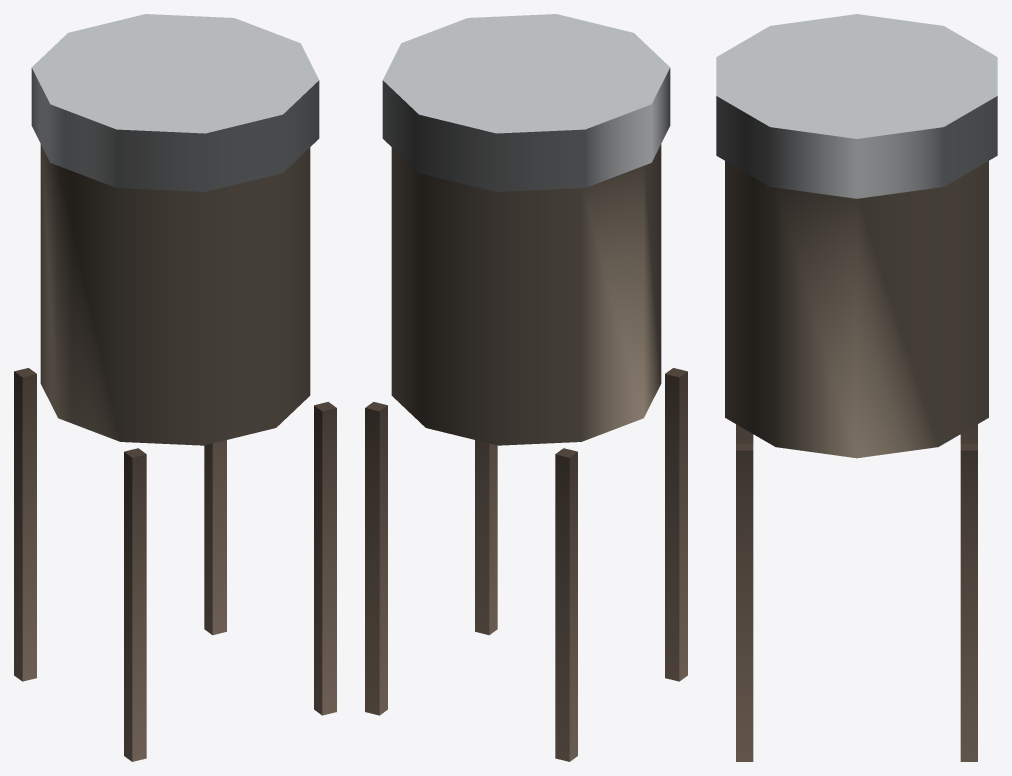
The model's file is water_tank.lod1.glb.
3 renders of one model, left to right at view 1: azimuth 30°, elevation 25°; view 2: azimuth 150°, elevation 25°; view 3: azimuth 270°, elevation 25°, orthographic. The views are drawn at different scales.
Visible parts, largest first — view 1: props_water_tank.lod1; view 2: props_water_tank.lod1; view 3: props_water_tank.lod1.
Part boxes in pixels (x1,y1,x2,y2): props_water_tank.lod1: [14, 14, 336, 761]; props_water_tank.lod1: [365, 14, 687, 761]; props_water_tank.lod1: [716, 14, 997, 761].
Size of the model in its own units: 2.24 by 5.3 by 2.13.
